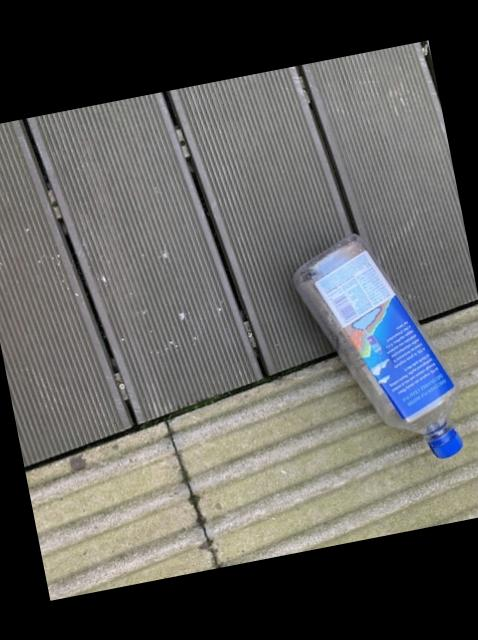plastic: (291, 236, 459, 459)
